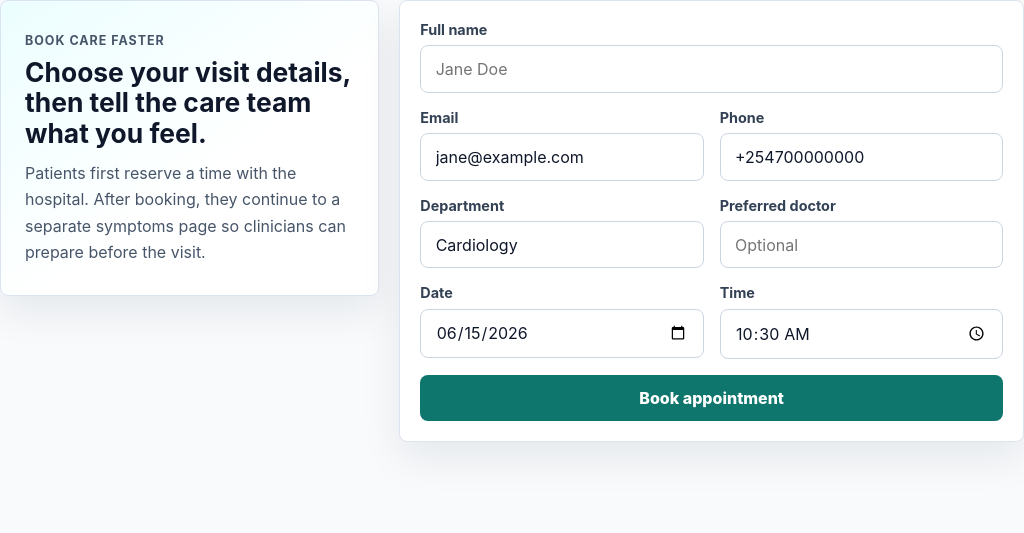
Test: AppointmentBooking › shows an error when required appointment fields are missing
Click the button "Book appointment" at x=712, y=398, box x1=420 y1=375 x2=1003 y2=421
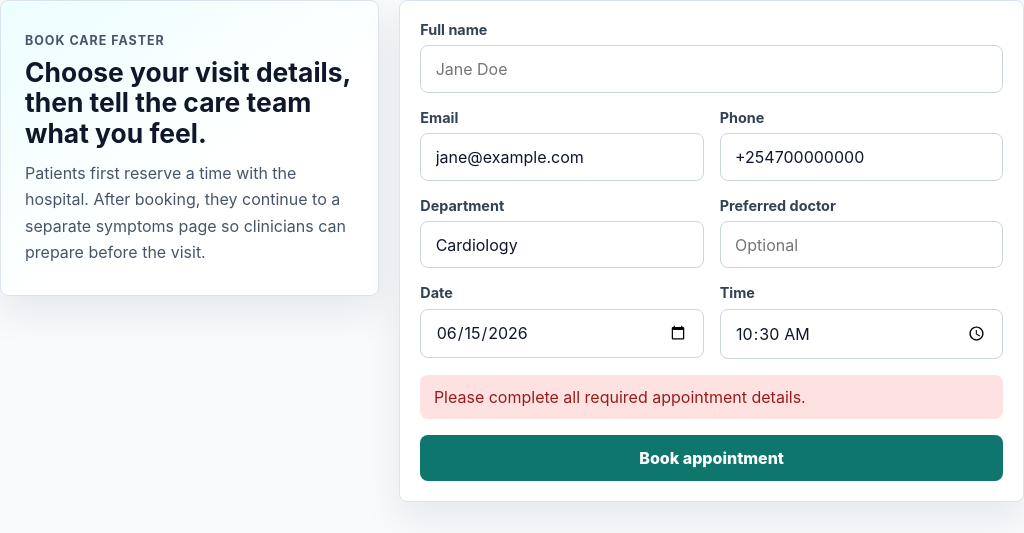
expect the text "Please complete all required appointment details." is shown: met, box x1=420 y1=375 x2=1003 y2=419
